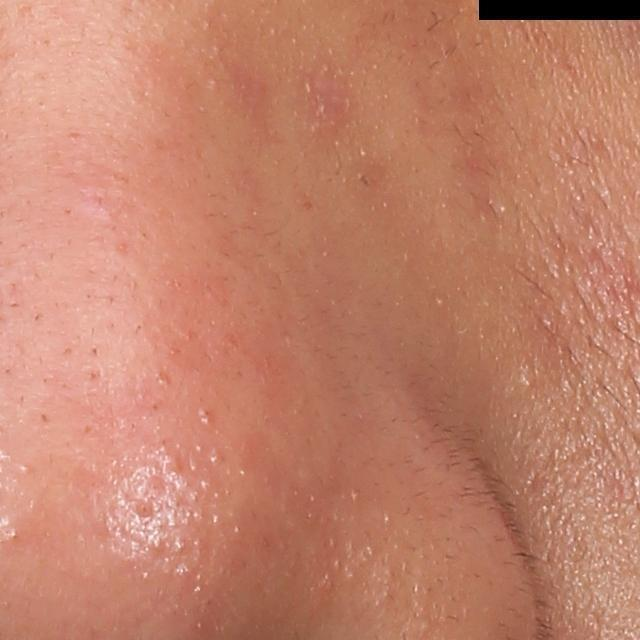comedo: (520, 376, 533, 391)
